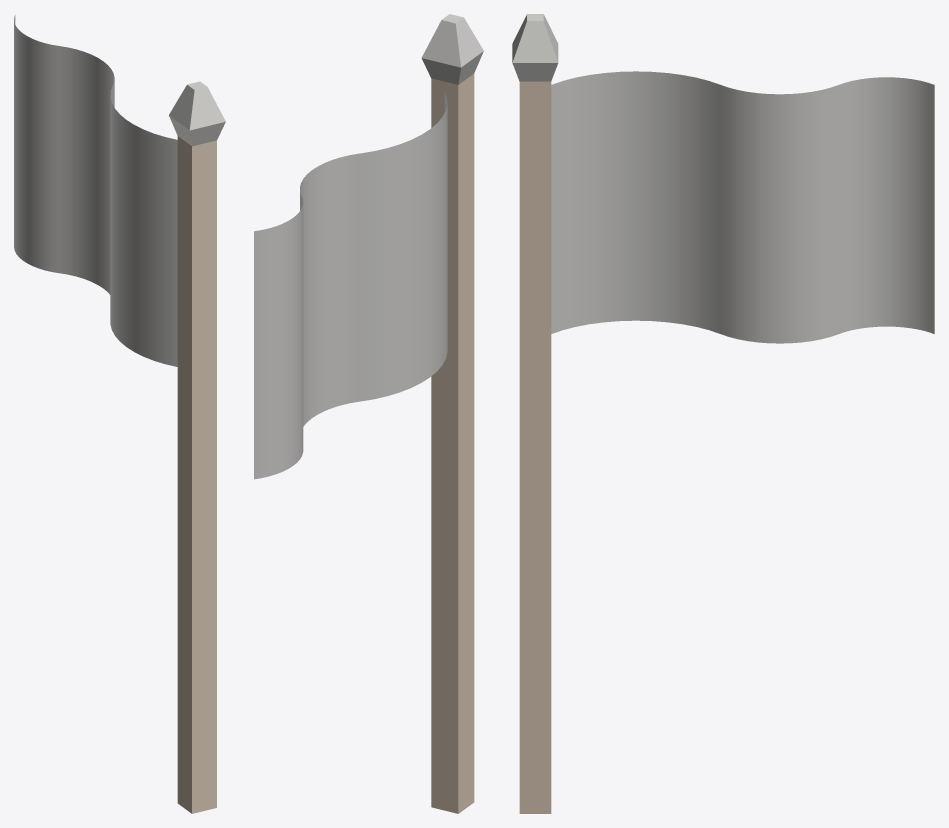
File: flagWhiteWide.glb
3 views of the same model, side by side, from view 1: azimuth 30°, elevation 25°; view 2: azimuth 150°, elevation 25°; view 3: azimuth 270°, elevation 25° (orthographic). The views are drawn at different scales.
Parts seen in each view (by area): view 1: Group 288, flagWhiteWide; view 2: Group 288, flagWhiteWide; view 3: Group 288, flagWhiteWide.
Part boxes in pixels (<box>): Group 288: <box>14,15,177,366</box>; flagWhiteWide: <box>169,81,225,813</box>; Group 288: <box>254,92,447,479</box>; flagWhiteWide: <box>421,14,483,813</box>; Group 288: <box>551,71,934,343</box>; flagWhiteWide: <box>512,14,558,813</box>.
Bounding box in the file's own units: 0.4988 × 7.92 × 3.84.
